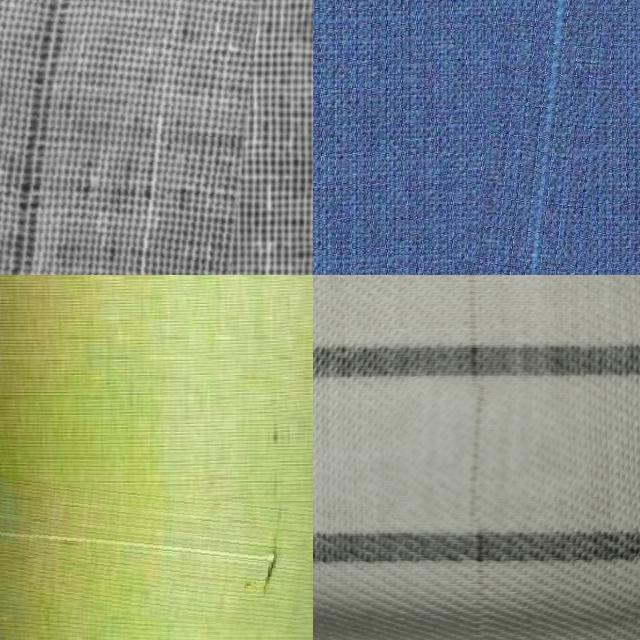Thread_other: (0, 462, 311, 619), (479, 0, 625, 275), (396, 380, 528, 528), (430, 275, 529, 332)
